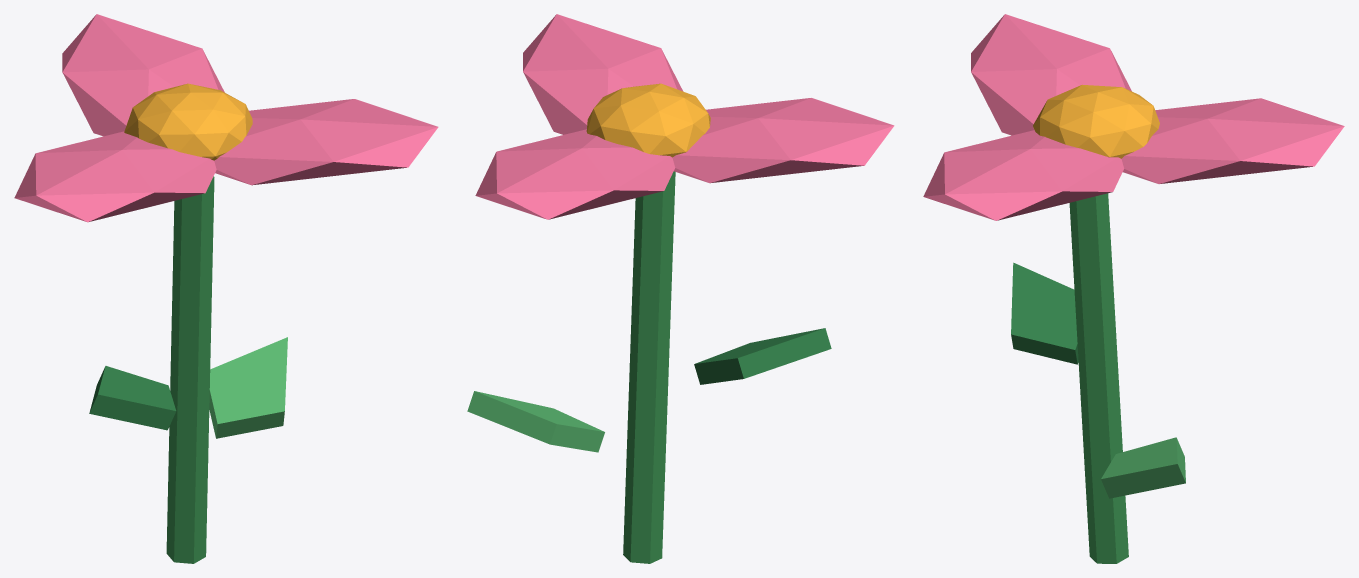
File: MiniFlower_3Petal_Pink.glb
The picture shows the model from 3 angles, left to right: view 1: azimuth 30°, elevation 25°; view 2: azimuth 150°, elevation 25°; view 3: azimuth 270°, elevation 25°; orthographic projection.
Parts seen in each view (by area): view 1: MiniFlower_3Petal_Pink Stem, MiniFlower_3Petal_Pink Petal 3, MiniFlower_3Petal_Pink Petal 2, MiniFlower_3Petal_Pink Petal 1, MiniFlower_3Petal_Pink Center, MiniFlower_3Petal_Pink Leaf 1, MiniFlower_3Petal_Pink Leaf -1; view 2: MiniFlower_3Petal_Pink Stem, MiniFlower_3Petal_Pink Petal 2, MiniFlower_3Petal_Pink Petal 1, MiniFlower_3Petal_Pink Petal 3, MiniFlower_3Petal_Pink Center, MiniFlower_3Petal_Pink Leaf 1, MiniFlower_3Petal_Pink Leaf -1; view 3: MiniFlower_3Petal_Pink Stem, MiniFlower_3Petal_Pink Petal 1, MiniFlower_3Petal_Pink Petal 3, MiniFlower_3Petal_Pink Petal 2, MiniFlower_3Petal_Pink Center, MiniFlower_3Petal_Pink Leaf -1, MiniFlower_3Petal_Pink Leaf 1.
Boxes of the visible parts, x1,y1,x2,y2 form: MiniFlower_3Petal_Pink Stem: (166, 176, 214, 563); MiniFlower_3Petal_Pink Petal 3: (214, 99, 438, 185); MiniFlower_3Petal_Pink Petal 2: (14, 131, 216, 222); MiniFlower_3Petal_Pink Petal 1: (62, 14, 224, 136); MiniFlower_3Petal_Pink Center: (124, 83, 252, 160); MiniFlower_3Petal_Pink Leaf 1: (209, 337, 287, 438); MiniFlower_3Petal_Pink Leaf -1: (89, 366, 176, 430); MiniFlower_3Petal_Pink Stem: (623, 171, 675, 563); MiniFlower_3Petal_Pink Petal 2: (672, 98, 894, 183); MiniFlower_3Petal_Pink Petal 1: (475, 129, 675, 219); MiniFlower_3Petal_Pink Petal 3: (523, 14, 683, 134); MiniFlower_3Petal_Pink Center: (586, 83, 710, 157); MiniFlower_3Petal_Pink Leaf 1: (467, 391, 604, 452); MiniFlower_3Petal_Pink Leaf -1: (694, 328, 831, 384); MiniFlower_3Petal_Pink Stem: (1069, 193, 1128, 563); MiniFlower_3Petal_Pink Petal 1: (1121, 98, 1344, 183); MiniFlower_3Petal_Pink Petal 3: (923, 130, 1123, 220); MiniFlower_3Petal_Pink Petal 2: (971, 14, 1131, 135); MiniFlower_3Petal_Pink Center: (1033, 84, 1159, 158); MiniFlower_3Petal_Pink Leaf -1: (1011, 262, 1078, 364); MiniFlower_3Petal_Pink Leaf 1: (1101, 437, 1185, 498).
Size of the model in its own units: 0.3964 by 0.4656 by 0.3827.
